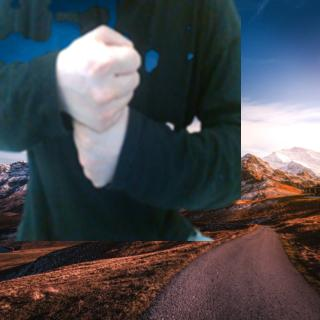CAREFUL: (50, 17, 142, 191)
